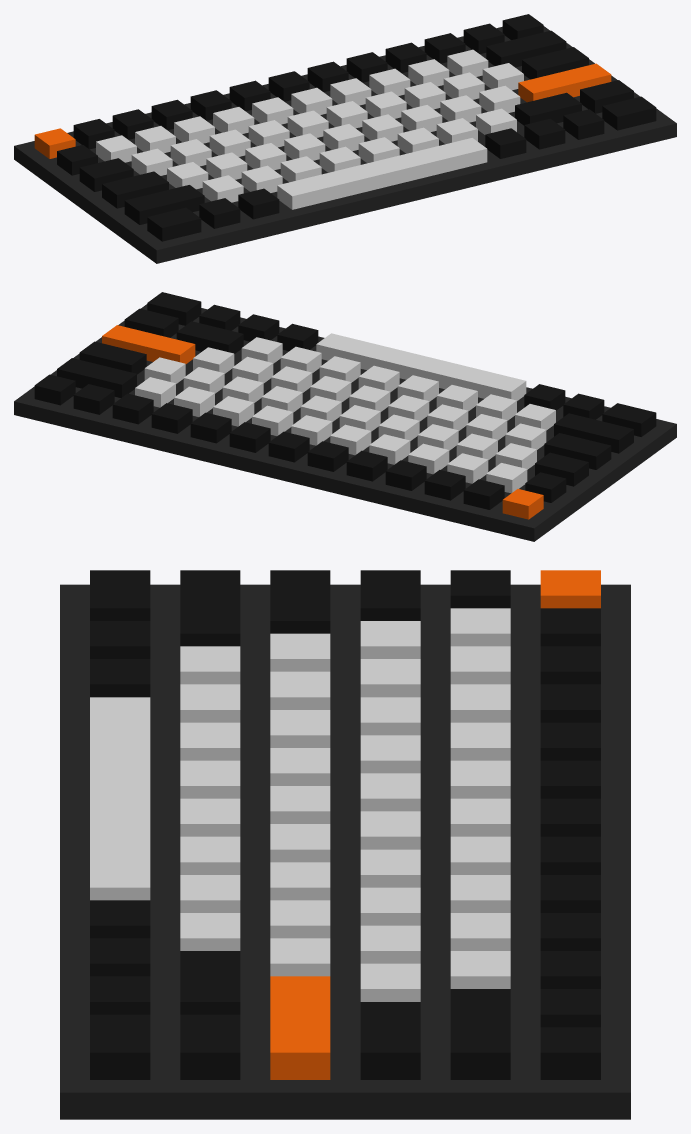
File: teclado.glb
3 renders of one model, top to bottom at view 1: azimuth 30°, elevation 25°; view 2: azimuth 150°, elevation 25°; view 3: azimuth 270°, elevation 25°, orthographic. The views are drawn at different scales.
Parts seen in each view (by area): view 1: teclado; view 2: teclado; view 3: teclado.
Part boxes in pixels (x1=…): teclado: x1=14, y1=14, x2=676, y2=263; teclado: x1=14, y1=292, x2=676, y2=541; teclado: x1=60, y1=570, x2=630, y2=1119.
Size of the model in its own units: 4 by 0.2 by 1.9.
1 material, 1 textured.
